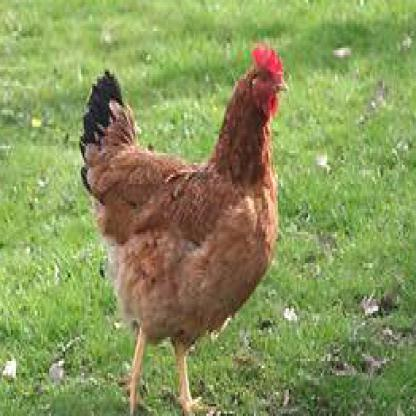chicken: (76, 46, 288, 414)
